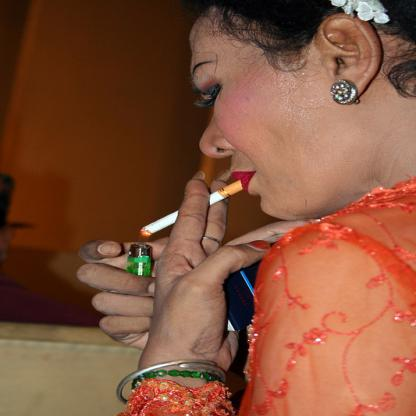smoking: (141, 179, 252, 234)
